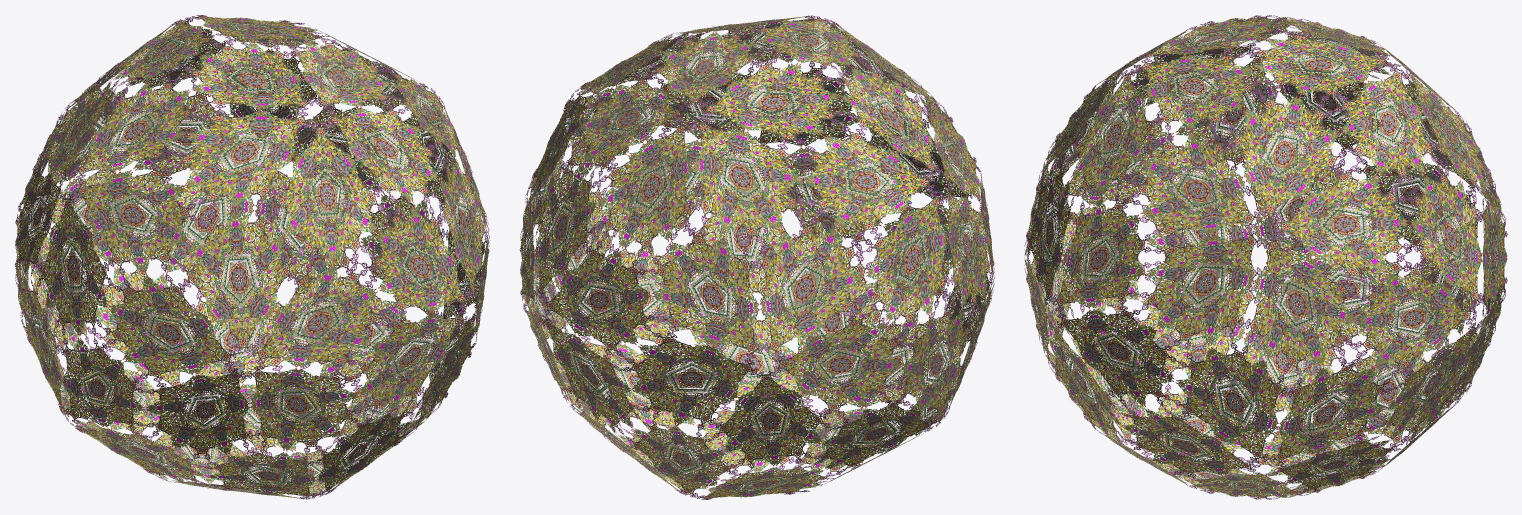
The model's file is PentagonalHexecontahedron3.obj.
The picture shows the model from 3 angles, left to right: view 1: azimuth 30°, elevation 25°; view 2: azimuth 150°, elevation 25°; view 3: azimuth 270°, elevation 25°; orthographic projection.
Bounding box in the file's own units: 4.19 × 4.19 × 4.19.
1 material, 1 textured.
